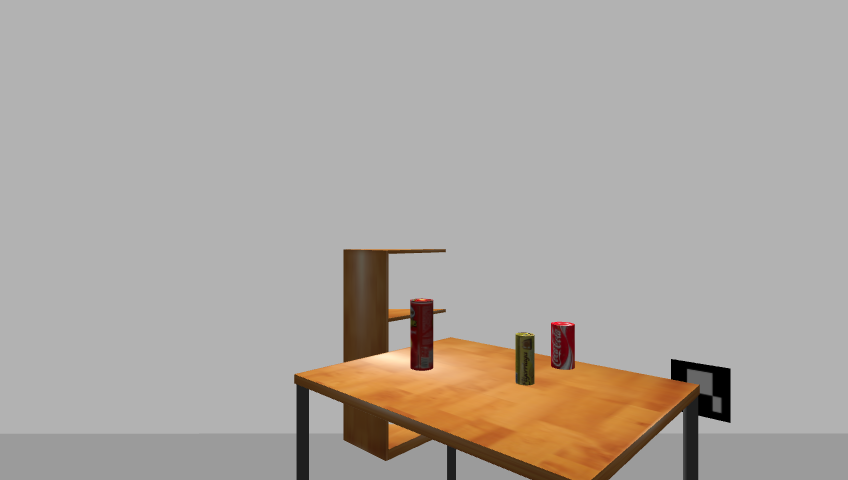aruco marker: (666, 358, 735, 424)
biscuits pack: (514, 333, 536, 386)
bookshelf: (338, 244, 450, 464)
coke can: (549, 321, 576, 371)
dinner table: (288, 339, 708, 479)
pringles can: (408, 298, 435, 373)
